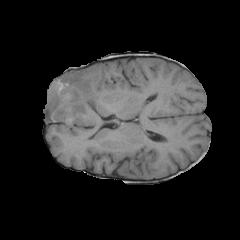glioma: (43, 71, 101, 127)
